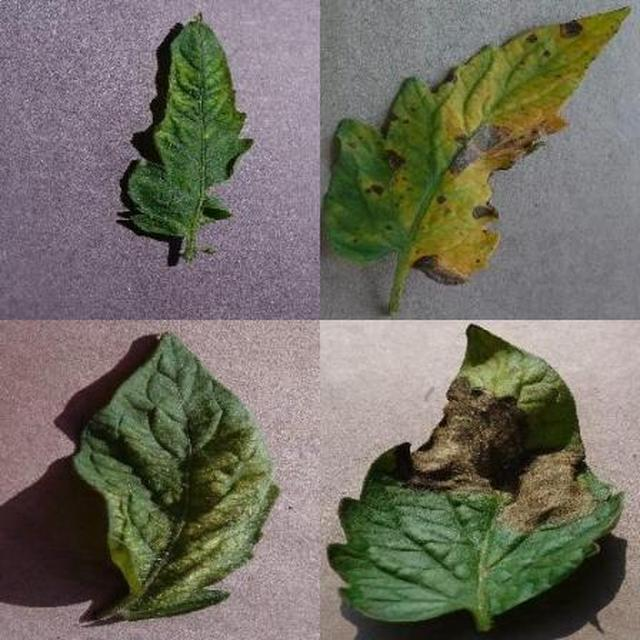Mosaic Virus Leaf: (186, 179, 640, 640)
